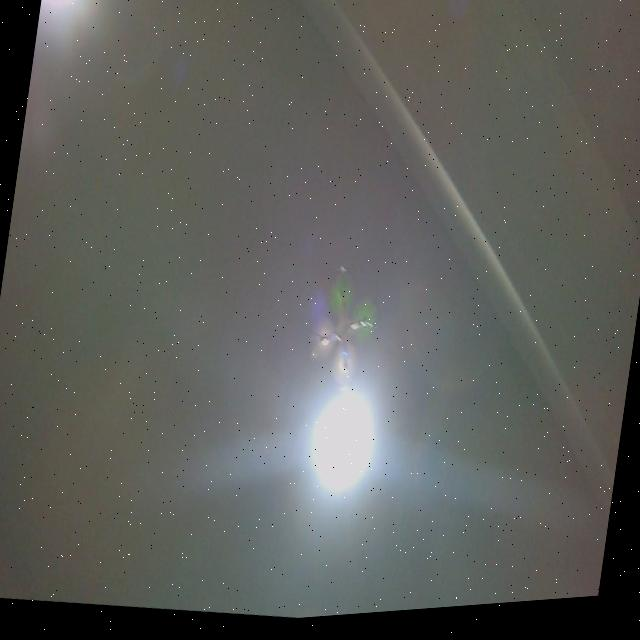drone: (295, 259, 389, 409)
